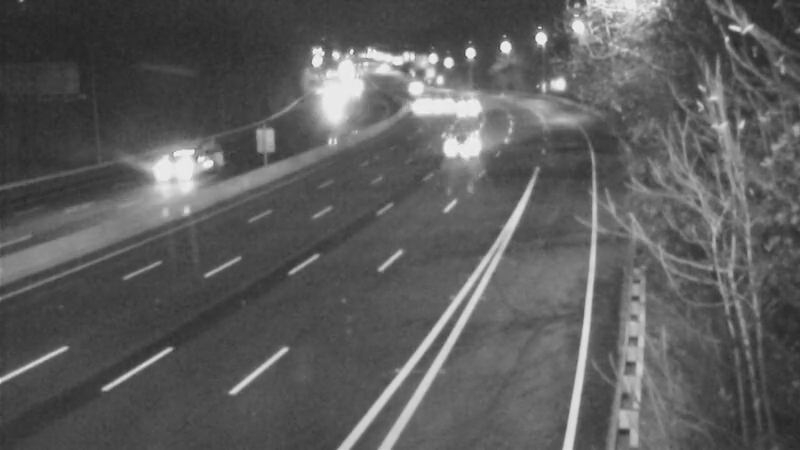vehicle: (138, 133, 218, 213), (384, 59, 434, 109), (413, 74, 463, 124), (401, 81, 451, 131), (440, 81, 490, 131), (435, 116, 485, 166)
